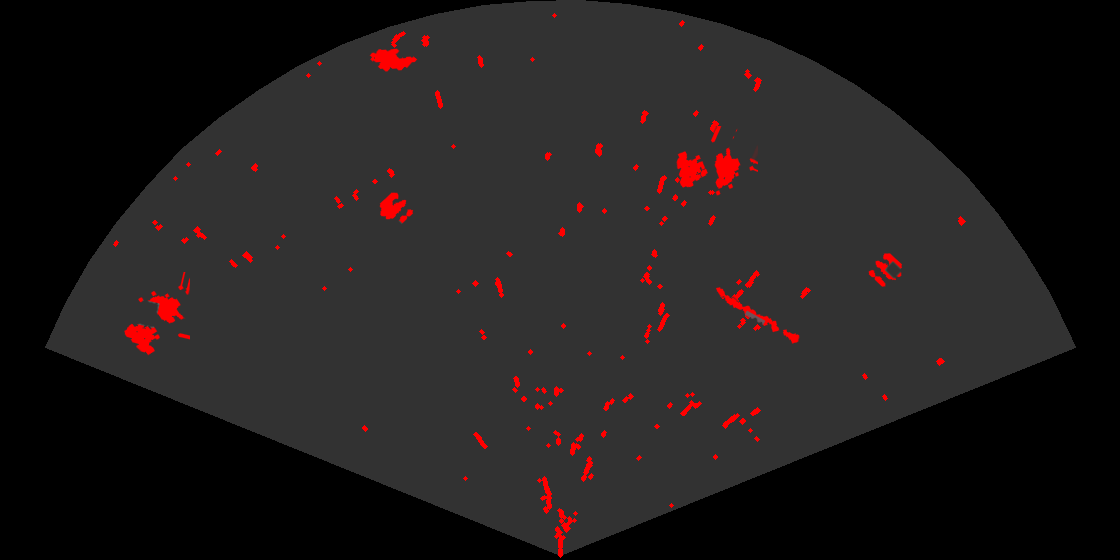AUV: (368, 47, 419, 73)
ball: (867, 252, 904, 288), (378, 191, 415, 225)
cage: (675, 126, 758, 197), (123, 272, 190, 357)
chain: (714, 286, 801, 345)
